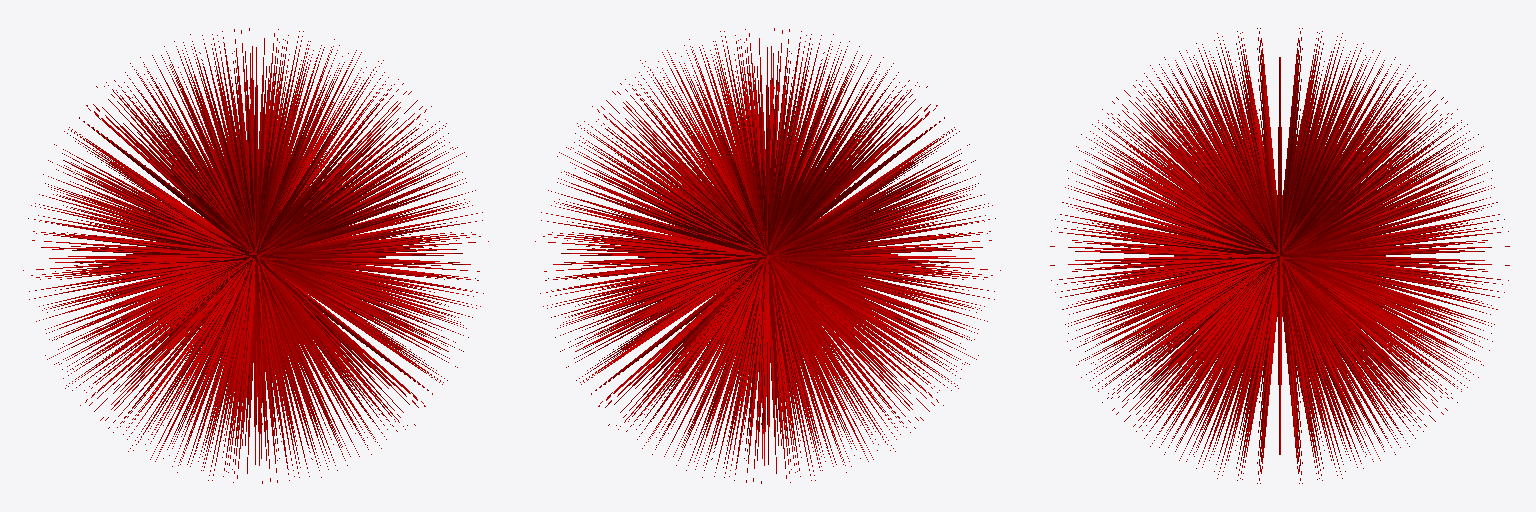
Rendered from spikeball_1.obj.
3 renders of one model, left to right at view 1: azimuth 30°, elevation 25°; view 2: azimuth 150°, elevation 25°; view 3: azimuth 270°, elevation 25°, orthographic.
Visible parts, largest first — view 1: Cube; view 2: Cube; view 3: Cube.
Boxes of the visible parts, box(x1,y1,x2,y2) form: Cube: box(23, 28, 488, 483); Cube: box(535, 28, 1000, 483); Cube: box(1050, 28, 1509, 483).
Bounding box in the file's own units: 26.05 × 26.05 × 26.05.